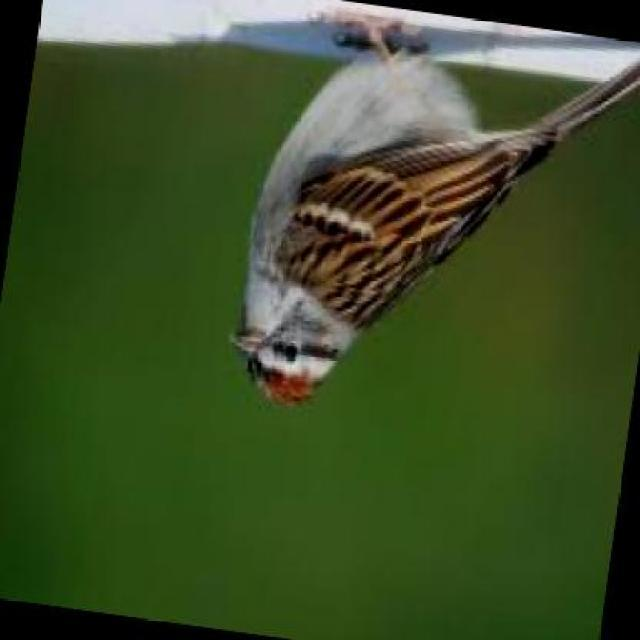Bird: (235, 13, 640, 477)
